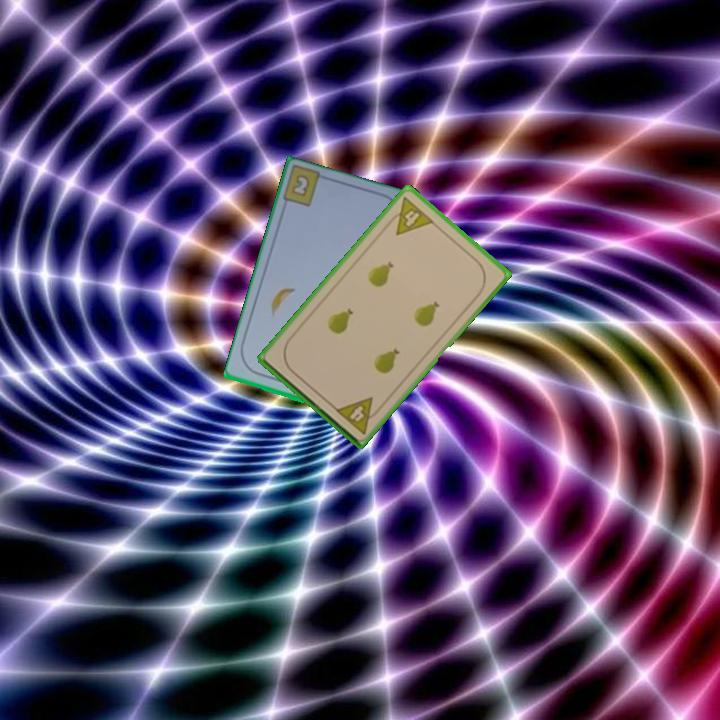2b: (290, 173, 311, 198)
4p: (382, 193, 437, 238), (331, 393, 385, 437)
